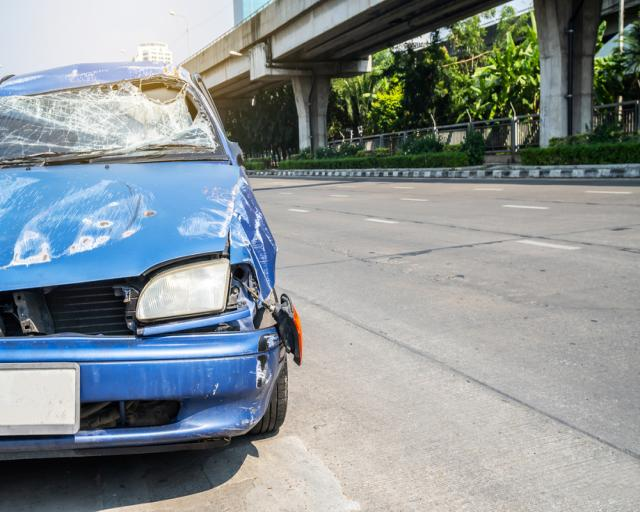glass shatter: (0, 76, 223, 161)
scratch: (0, 172, 156, 270), (227, 178, 278, 296), (0, 66, 184, 98), (233, 331, 279, 433), (176, 179, 239, 242)
